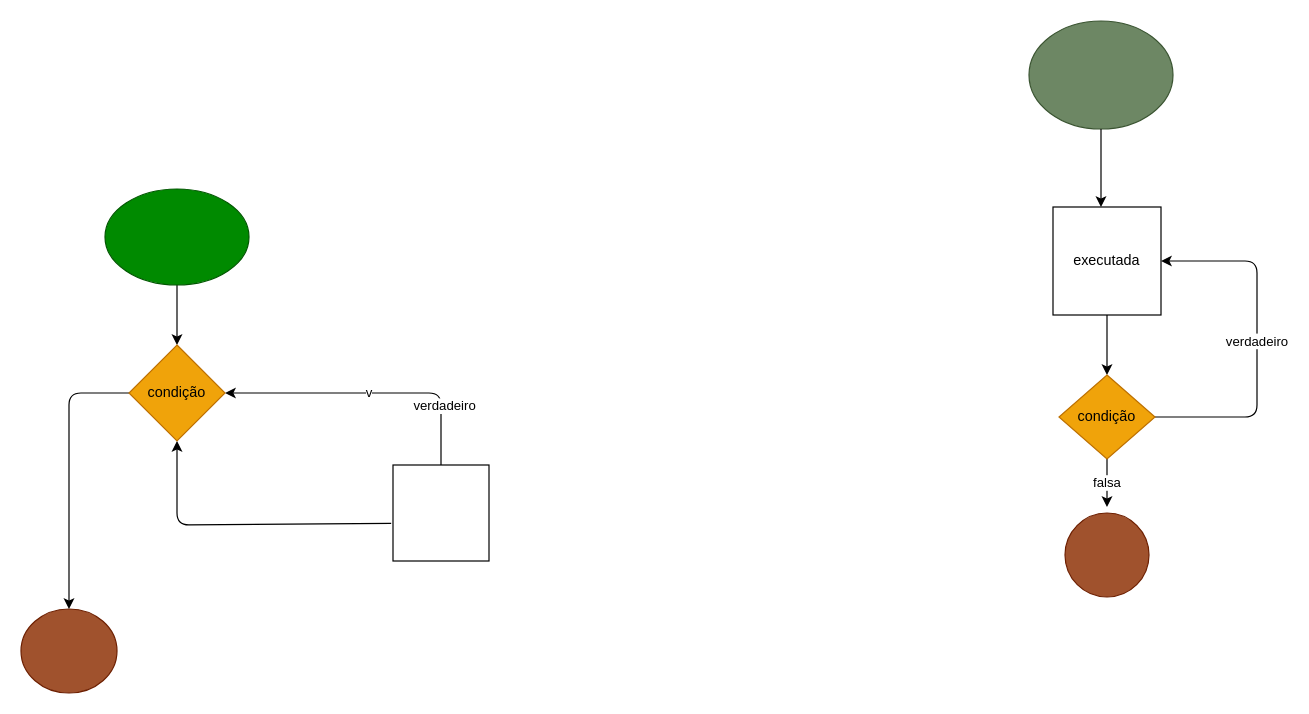
This 1309x714 diagram has some shape labels left out. Each missing label, with the box of its shape:
executa: (392, 464, 489, 561)
inicio: (104, 188, 249, 285)
